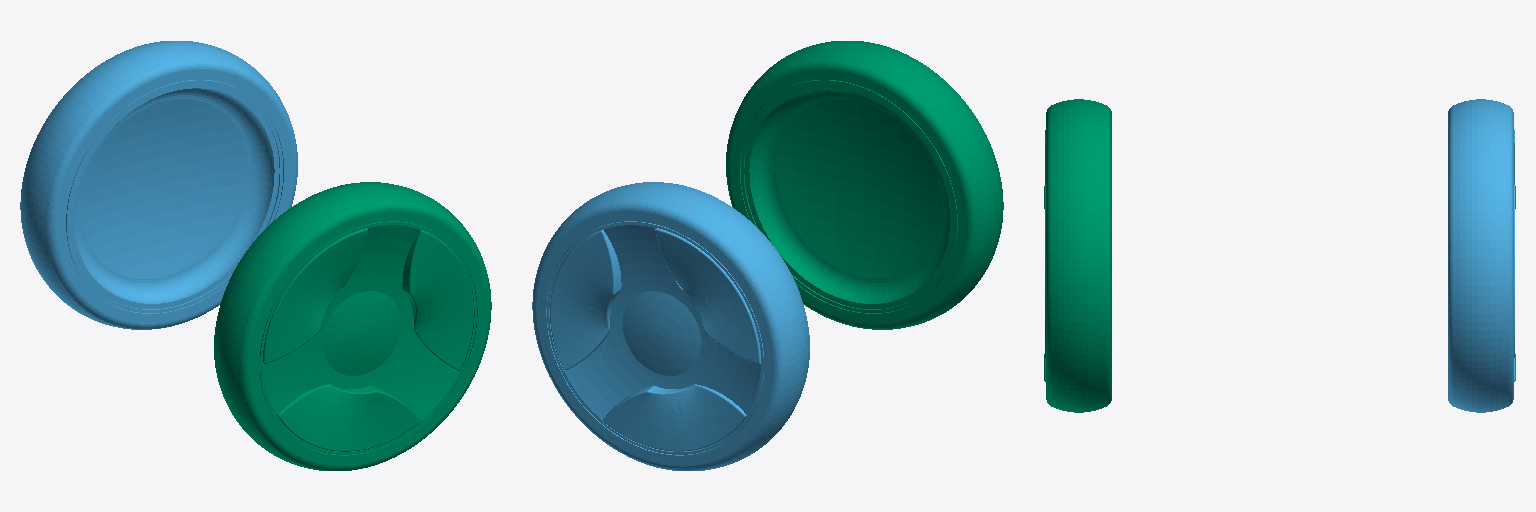
robot.urdf — cyberpod:
<?xml version="1.0"?>
<robot name="cyberpod">

  <link name="cyberpod/base_link">
    <visual>
      <origin rpy="0.0 0 0" xyz="0 0 0"/>
      <geometry>
	      <mesh filename="package://segway_sim/URDF/Frame.stl" scale="0.01 0.01 0.01"/>
      </geometry>
    </visual>
    <inertial>
       <origin rpy="0 0 0" xyz="0.0 0.0 0.0"/>
       <mass value="0.001" />
       <inertia ixx="0.001" ixy="0" ixz="0" iyy="0.001" iyz="0" izz="0.001" />
    </inertial>

    <collision>
      <origin xyz="0 0 0"/>
      <geometry>
        <box size="0.4 0.4 0.4" />
      </geometry>
    </collision>

  </link>

 <joint name="w1_joint" type="fixed">
    <parent link="cyberpod/base_link"/>
    <child link="w1_link" />
    <origin xyz="0 .25 0" rpy="0 0 0" />
  </joint>

  <link name="w1_link" >
    <inertial>
      <origin xyz="0 0 0" /> 
      <mass value="1.0" />
      <inertia  ixx="0.001" ixy="0.0"  ixz="0.0"  iyy="0.001"  iyz="0.0"  izz="0.001" />
    </inertial>

    <visual>
      <origin xyz="0 0 0"/>
      <geometry>
        <mesh filename="package://segway_sim/URDF/WheelL.stl" scale="0.01 0.01 0.01"/>
      </geometry>
    </visual>

    <collision>
      <origin xyz="0 0 0"/>
      <geometry>
        <box size="0.01 0.01 0.01" />
      </geometry>
    </collision>
  </link>

 <joint name="w2_joint" type="fixed">
    <parent link="cyberpod/base_link" />
    <child link="w2_link" />
    <origin xyz="0 -0.25 0" rpy="0 0 0" />
  </joint>

  <link name="w2_link" >
    <inertial>
      <origin xyz="0 0 0" /> 
      <mass value="1.0" />
      <inertia  ixx="0.001" ixy="0.0"  ixz="0.0"  iyy="0.001"  iyz="0.0"  izz="0.001" />
    </inertial>

    <visual>
      <origin xyz="0 0 0"/>
      <geometry>
        <mesh filename="package://segway_sim/URDF/WheelR.stl" scale="0.01 0.01 0.01"/>
      </geometry>
    </visual>

    <collision>
      <origin xyz="0 0 0"/>
      <geometry>
        <box size="0.01 0.01 0.01" />
      </geometry>
    </collision>
  </link>


</robot>

--- What the picture shows (computed from the rendered views, not written in the file) ---
Views: 3 orthographic renders of the robot side by side, from view 1: azimuth 30°, elevation 25°; view 2: azimuth 150°, elevation 25°; view 3: azimuth 270°, elevation 25°.
Robot: cyberpod — 3 links, 2 joints (2 fixed); root link cyberpod/base_link; default pose: every joint at zero.
Links seen in each view (by area): view 1: w2_link, w1_link; view 2: w1_link, w2_link; view 3: w1_link, w2_link.
Boxes of the visible links, x1,y1,x2,y2 form: w2_link: (214, 182, 491, 470); w1_link: (20, 41, 297, 329); w1_link: (532, 182, 809, 470); w2_link: (726, 41, 1003, 329); w1_link: (1448, 99, 1515, 412); w2_link: (1044, 99, 1111, 412).
Size in the robot's own frame: 0.3898 by 0.586 by 0.3898 metres.
2 mesh visuals loaded from 3 distinct referenced files (2 binary STL); not drawn: 1 (reference not matched to a file when rendering).